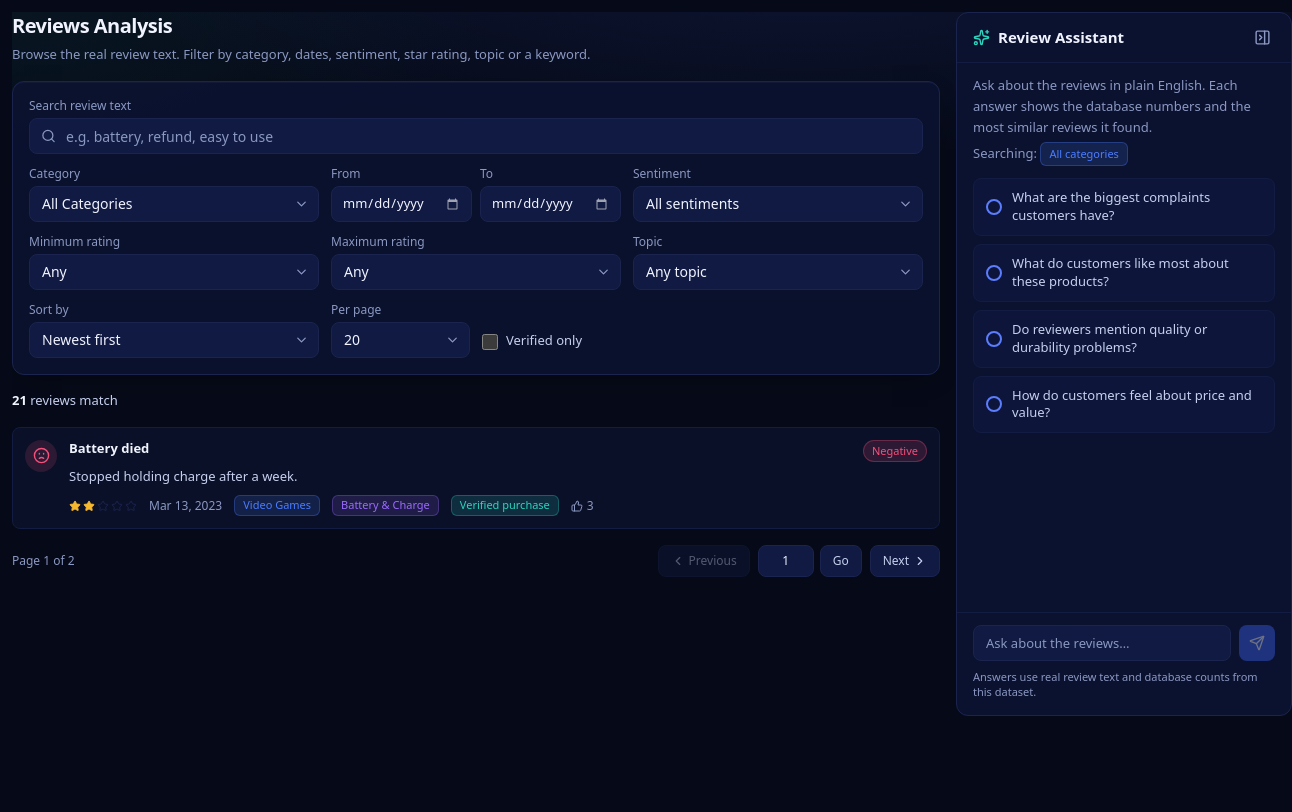
Test case: ReviewsPage › applies the date range in the API request, not by trimming results on screen
Expected: the element that starts with "Battery died" is shown, [12, 427, 940, 529]
Step 1. Type "2022-01-01" into the date field labelled "From" → (402, 204), box [331, 186, 472, 222]
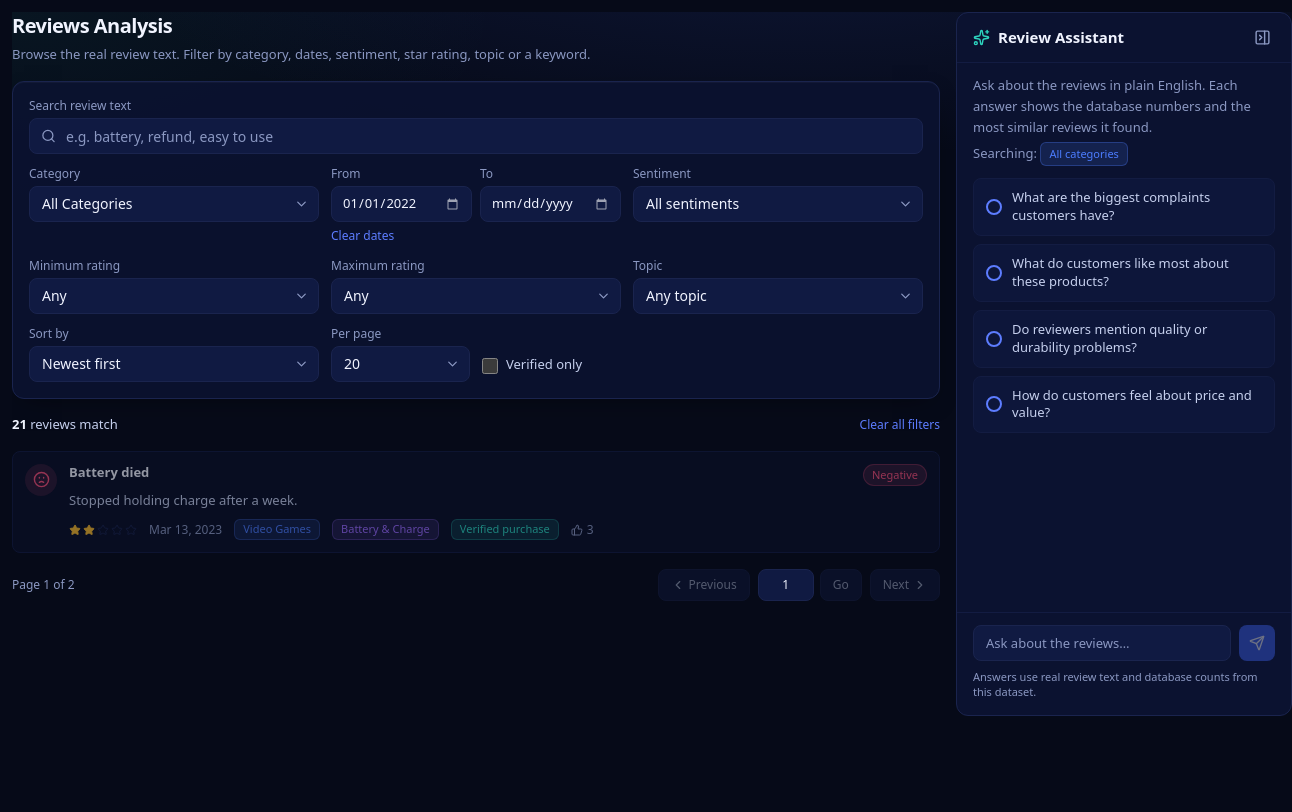
Step 2. Type "2022-12-31" into the date field labelled "To" → (550, 204), box [480, 186, 621, 222]
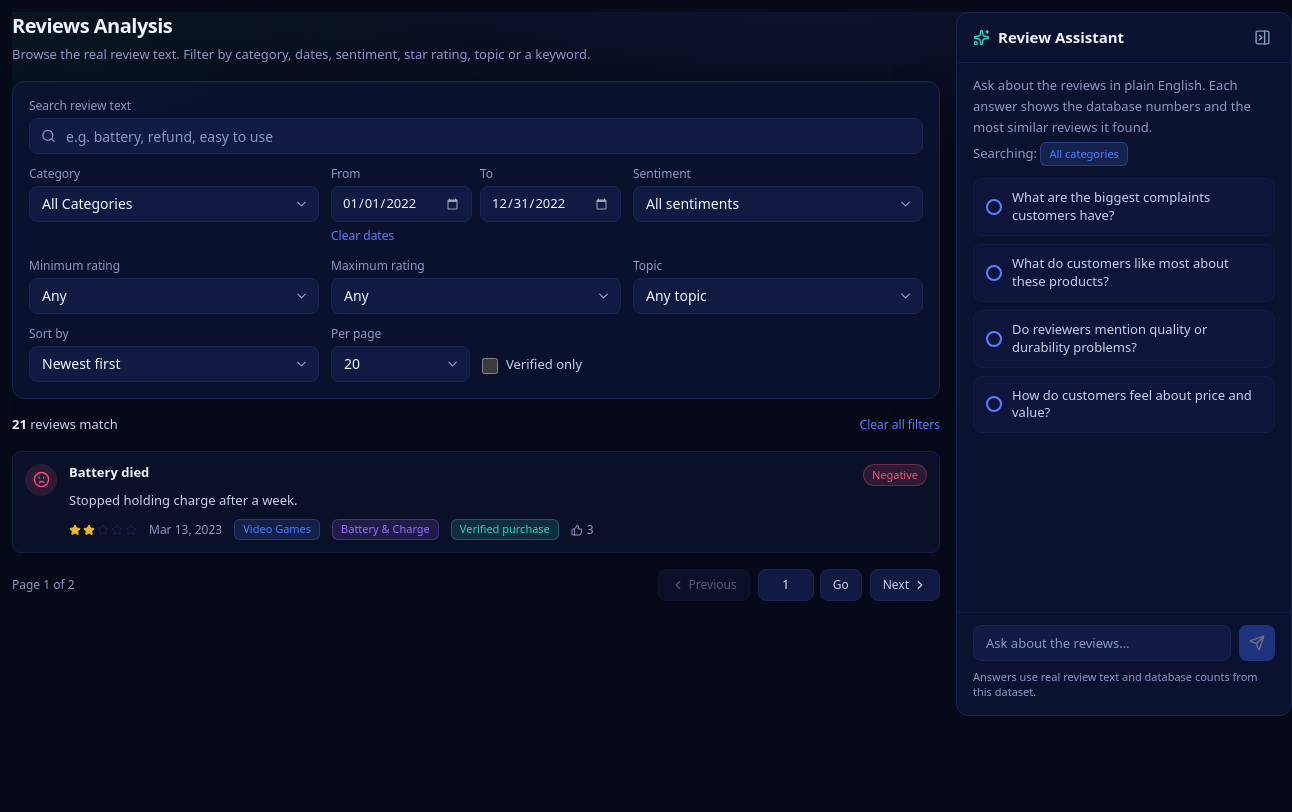
Step 3. Click the button "Clear dates" → (363, 236), box [331, 228, 394, 244]
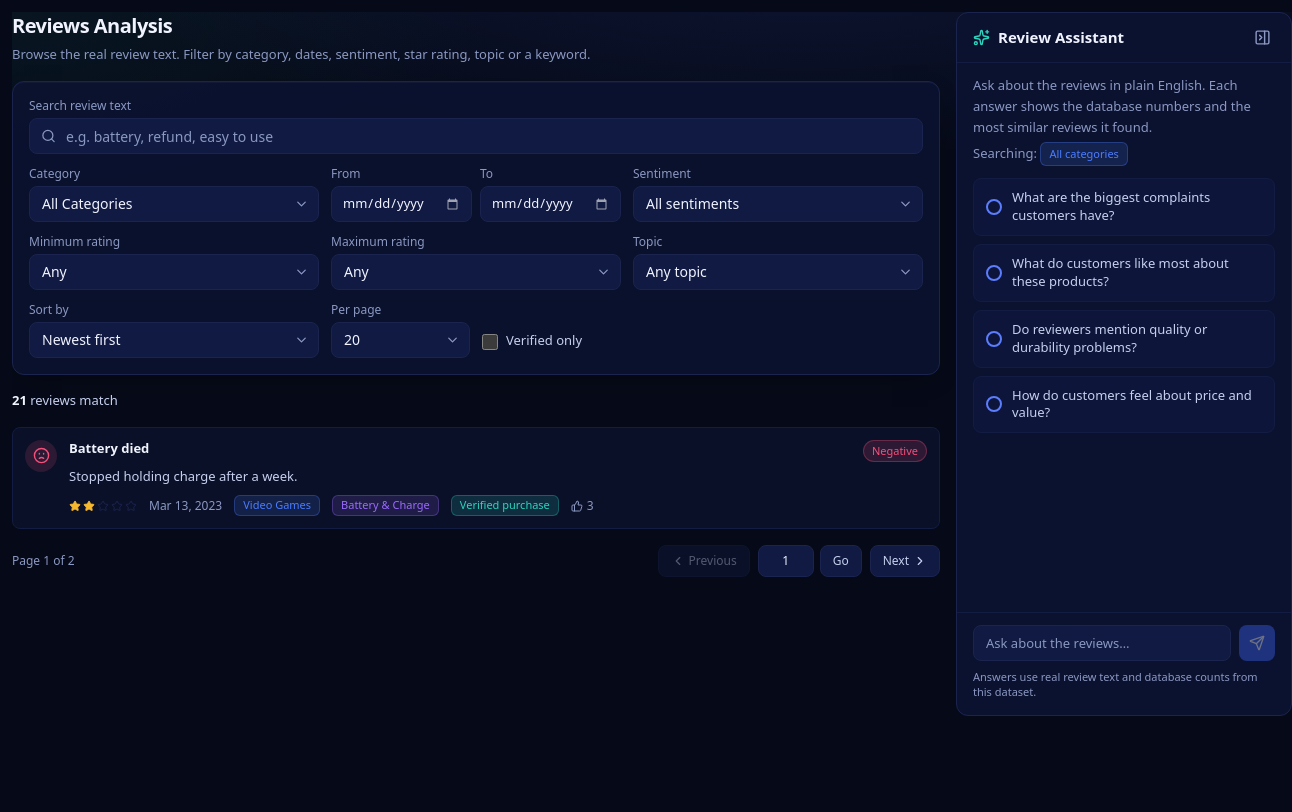
Expected: the date field labelled "From" is empty, [331, 186, 472, 222]
Expected: the date field labelled "To" is empty, [480, 186, 621, 222]
Expected: the button "Clear dates" is gone
